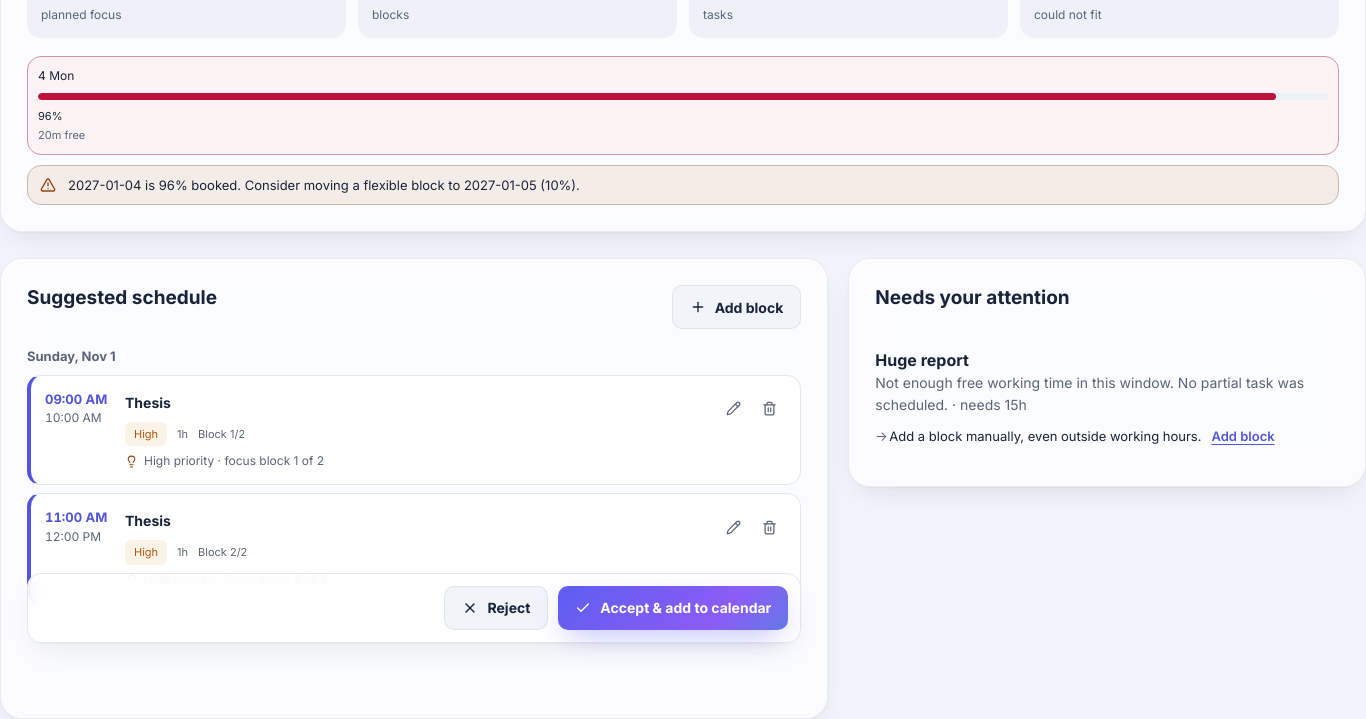
Scenario: weekly planning › previews, explains, edits and then accepts a proposal
The image size is (1366, 719).
(page scrolled)
Expected: the text "High priority · focus block 1 of 2" is shown, [125,453,324,468]
Expected: the text "96% booked" is shown, [68,177,580,193]
What coordinates should you click on to do the following:
click the button named "Remove block" in the row of "11:00 AM"
I would click on:
 (769, 527)
Its box is [752,508,786,546].
(page scrolled)
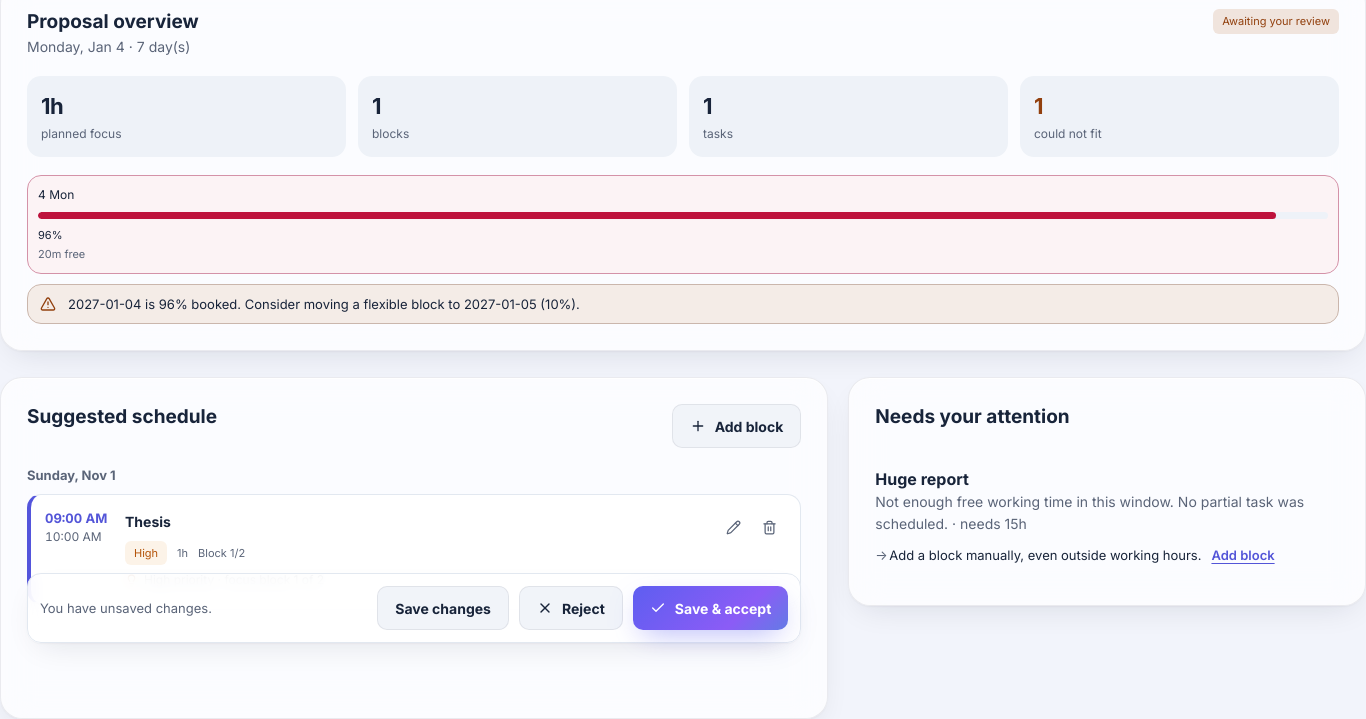
Now the text "You have unsaved changes." is shown, box [40,598,212,618]
What coordinates should you click on to do the following:
click the button "Save & accept"
I would click on:
 (711, 608)
Its box is [633,586,788,630].
(page scrolled)
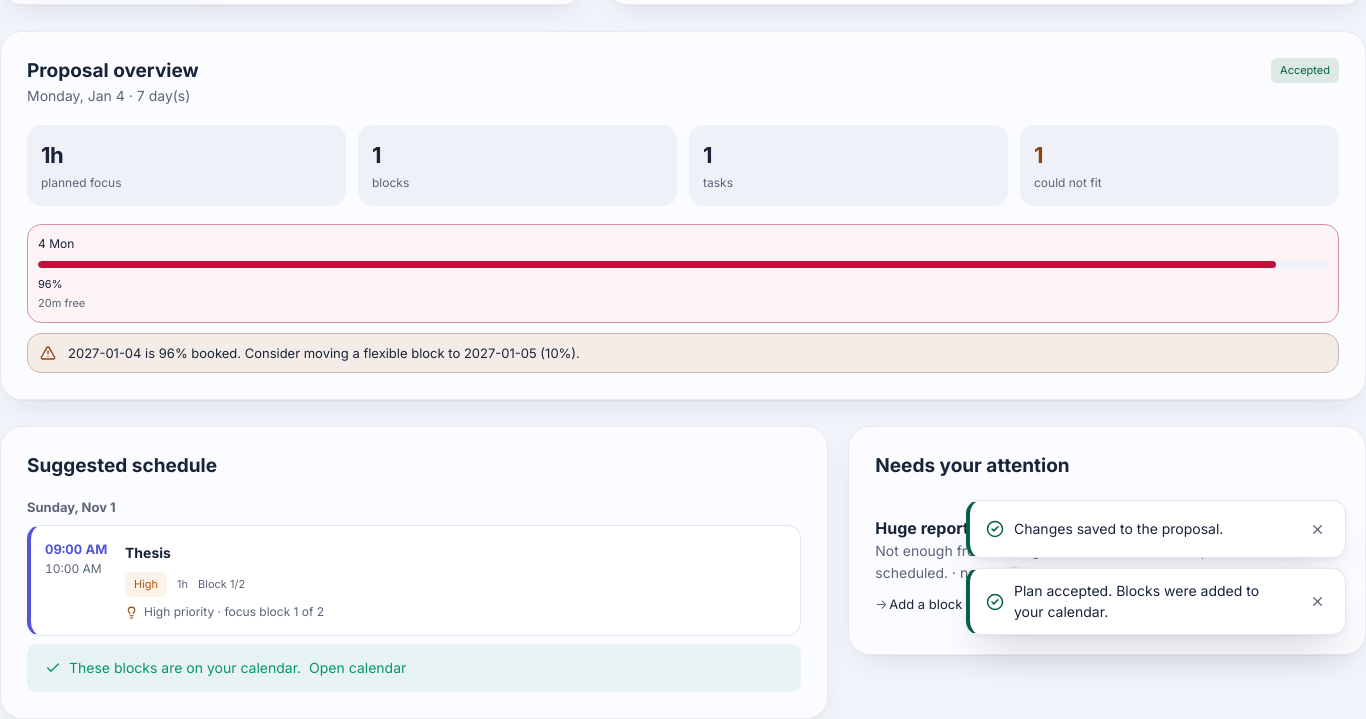
Now the text "These blocks are on your calendar." is shown, box [69,659,301,676]
